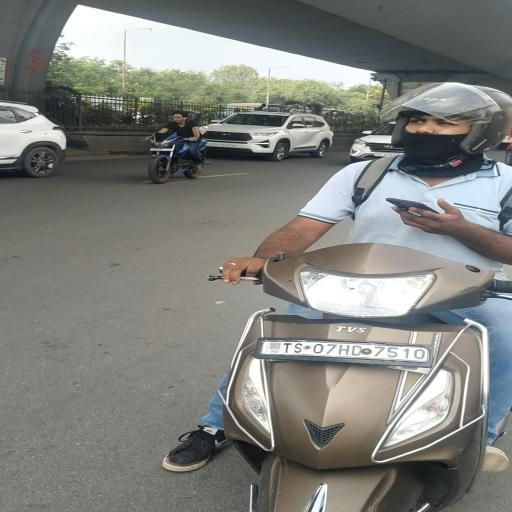helmet: (320, 76, 511, 474)
no helmet: (139, 104, 251, 224)
